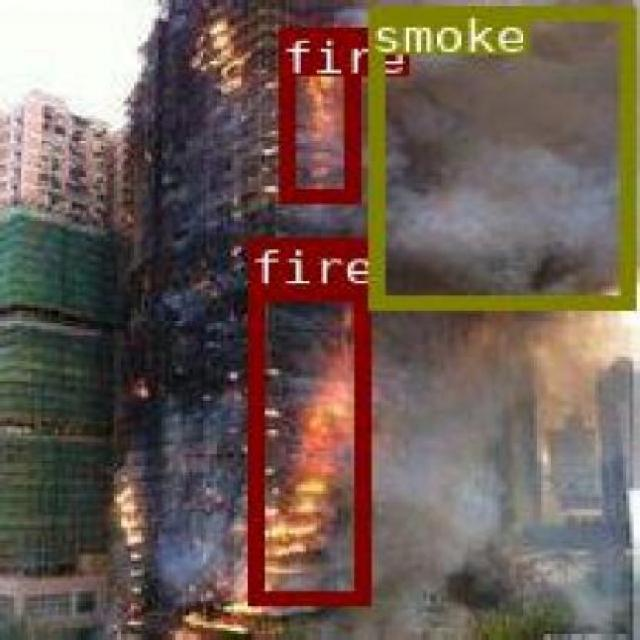CIV_Plane: (246, 284, 366, 604), (278, 24, 358, 200)
Fire: (246, 284, 366, 604), (278, 24, 358, 200)
Smoke: (366, 0, 632, 241)
